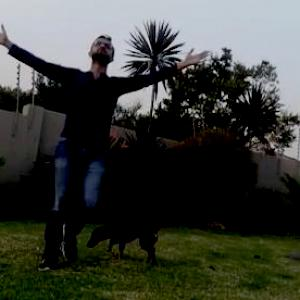takeoff: (1, 49, 177, 250)
